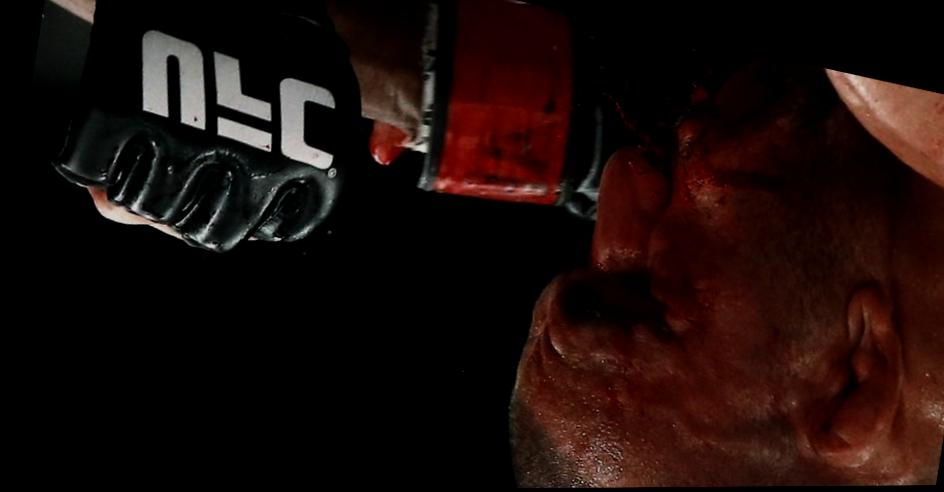Fire: (589, 46, 802, 215), (646, 255, 709, 335), (366, 121, 405, 166), (607, 336, 629, 368)
